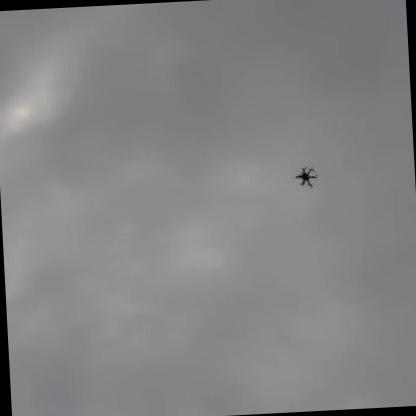drone: (290, 163, 321, 191)
